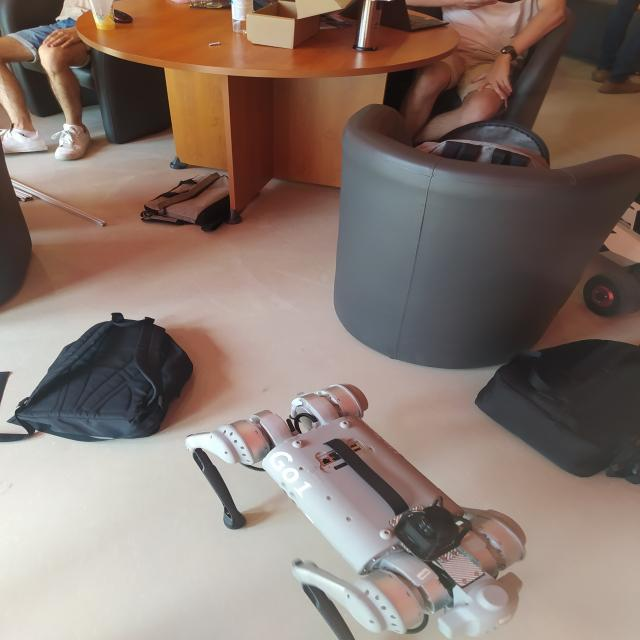unitree-go1-robot: (175, 370, 539, 640)
